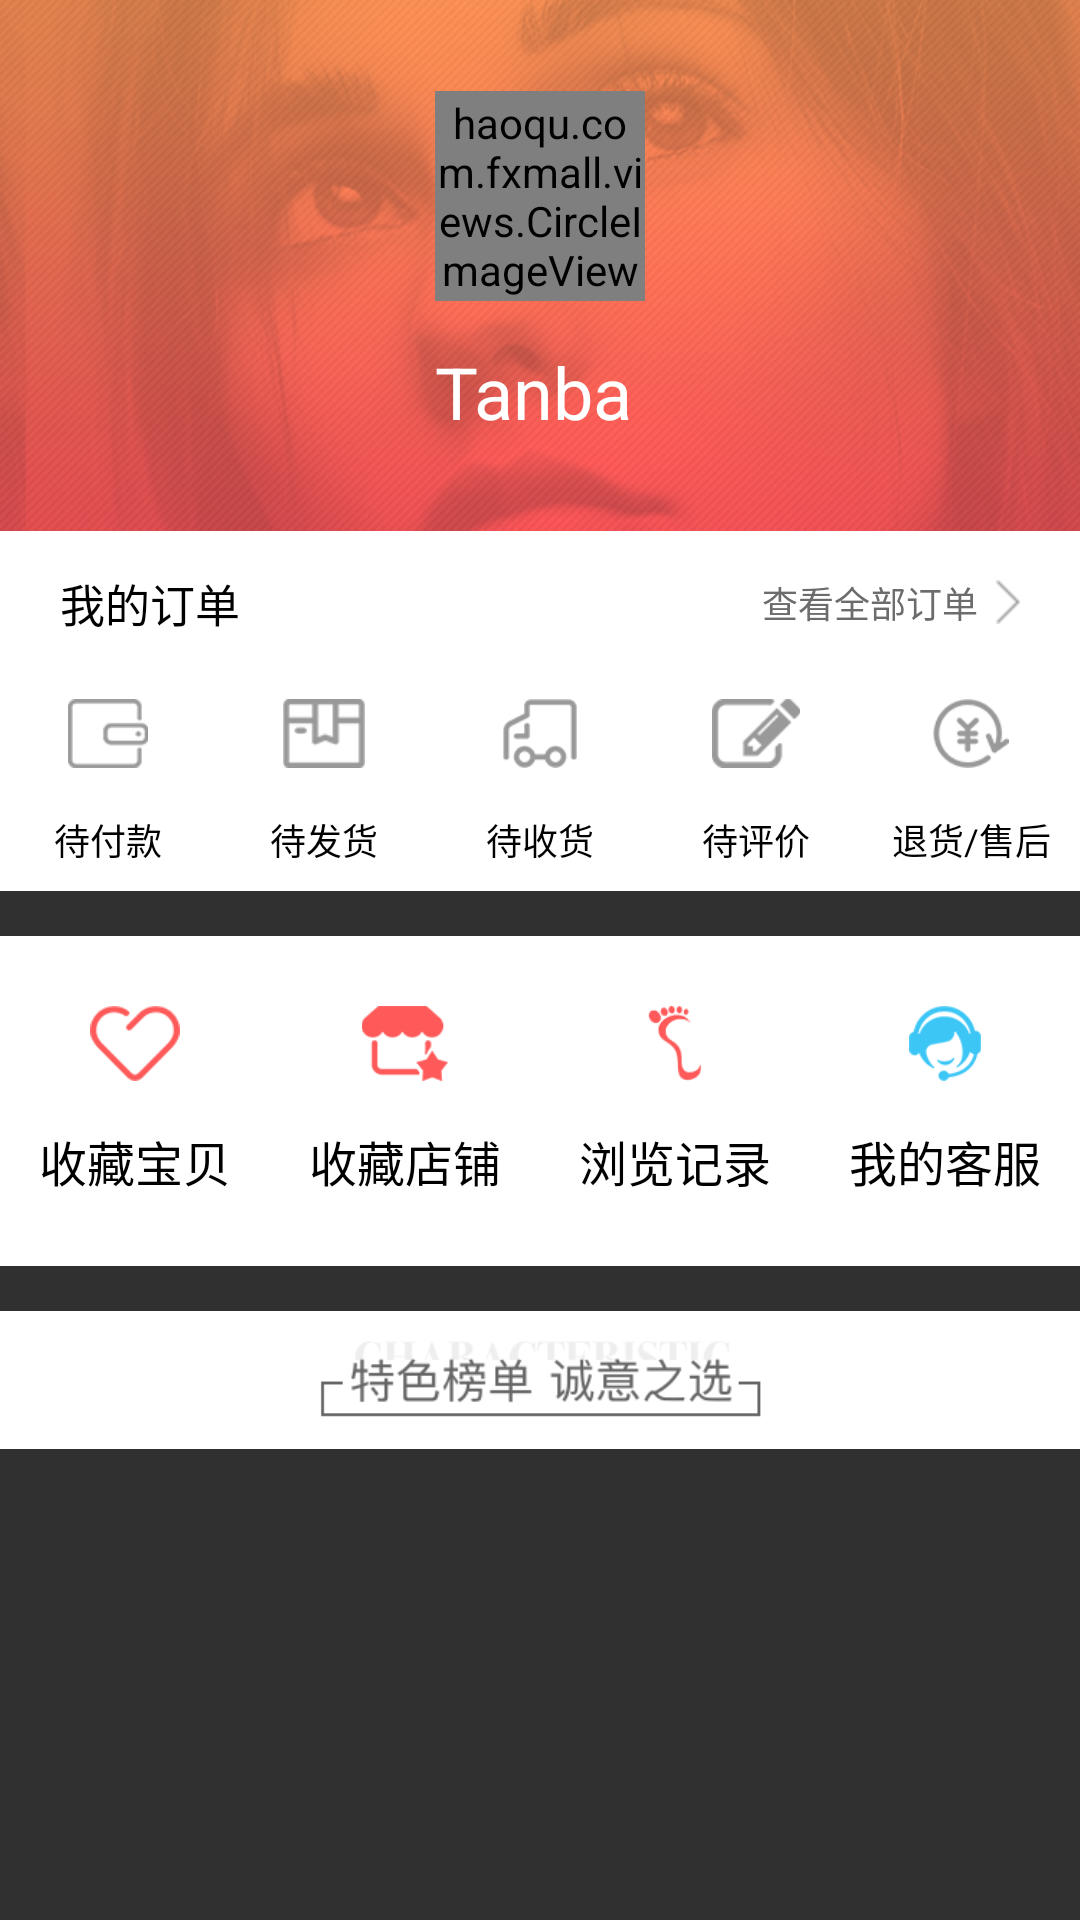

Locate icon controls on the screen. Image size 1080px×1920px, boxes as (x1, y1, x2, y2).
mycenter collectgood: (90, 1006, 180, 1081)
mycenter collectstore: (362, 1006, 448, 1081)
mycenter cookies: (648, 1006, 701, 1080)
mycenter refund: (933, 699, 1009, 768)
mycenter service: (909, 1006, 981, 1081)
mycenter waitevaluation: (712, 699, 800, 768)
mycenter waitgoods: (503, 699, 577, 768)
mycenter waitingpayment: (68, 699, 148, 768)
mycenter waitsend: (283, 699, 365, 768)
